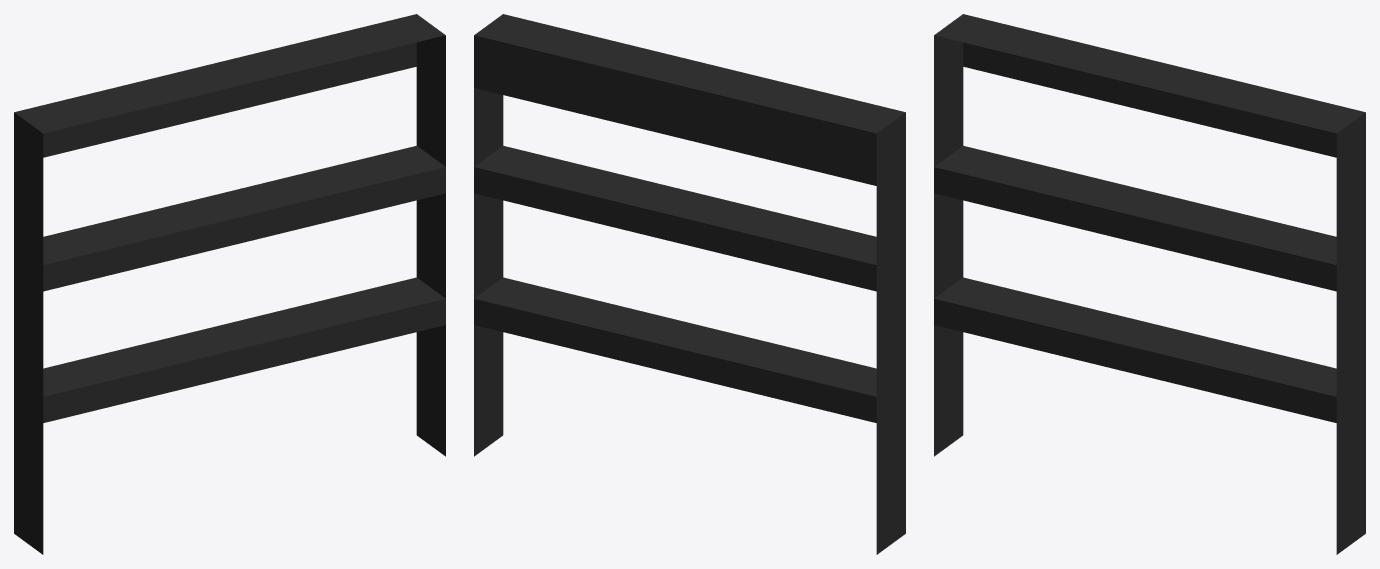
File: baranda_2.gltf
3 views of the same model, side by side, from view 1: azimuth 30°, elevation 25°; view 2: azimuth 150°, elevation 25°; view 3: azimuth 330°, elevation 25° (orthographic).
Parts seen in each view (by area): view 1: cuboid (×2), glass_panel; view 2: glass_panel, cuboid (×2); view 3: cuboid (×2), glass_panel.
Part boxes in pixels (x1,y1,x2,y2): cuboid (×2): (14, 145, 445, 423); glass_panel: (14, 14, 445, 554); glass_panel: (474, 14, 905, 554); cuboid (×2): (474, 145, 905, 422); cuboid (×2): (934, 145, 1365, 423); glass_panel: (934, 14, 1365, 554).
Size of the model in its own units: 1 by 1 by 0.125.
2 materials, 2 textured.
